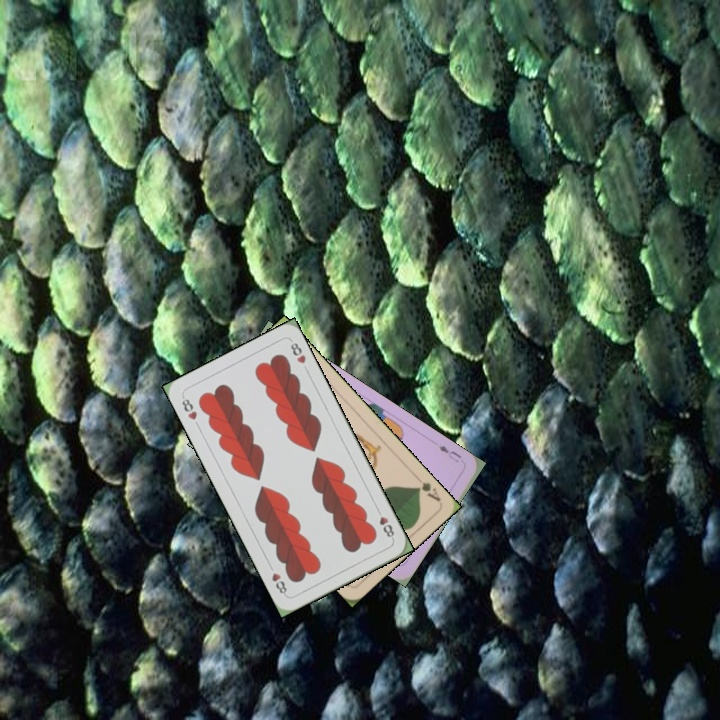EU: (434, 441, 464, 465)
GA: (411, 477, 443, 504)
H8: (372, 504, 397, 542), (178, 392, 200, 423)
